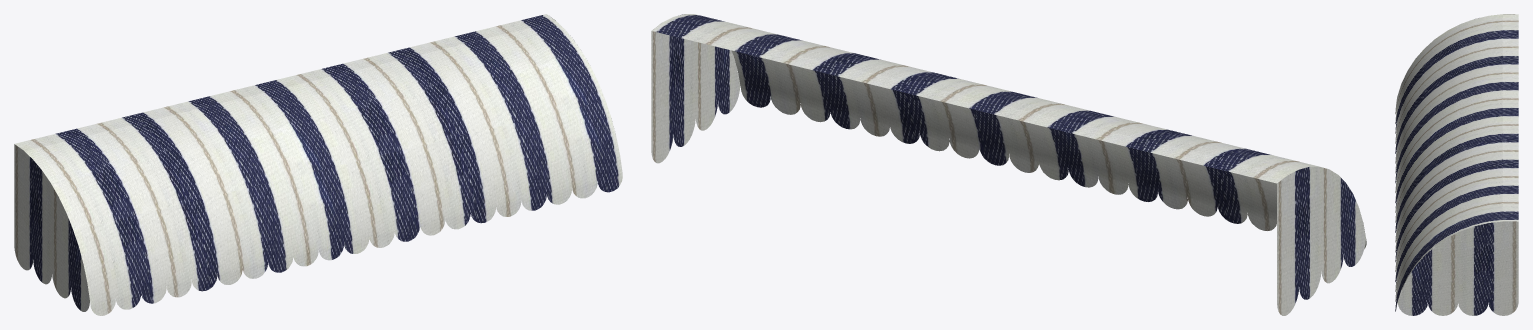
File: capota-draco.glb
3 renders of one model, left to right at view 1: azimuth 30°, elevation 25°; view 2: azimuth 150°, elevation 25°; view 3: azimuth 270°, elevation 25°, orthographic. The views are drawn at different scales.
Visible parts, largest first — view 1: Group_001_1; view 2: Group_001_1; view 3: Group_001_1.
Part boxes in pixels (box(x1,y1,x2,y2)): Group_001_1: box(14, 14, 622, 315); Group_001_1: box(651, 14, 1366, 315); Group_001_1: box(1395, 14, 1518, 315).
Size of the model in its own units: 2.16 by 0.4598 by 0.5431.
Materials: 1 (1 with a texture image).
